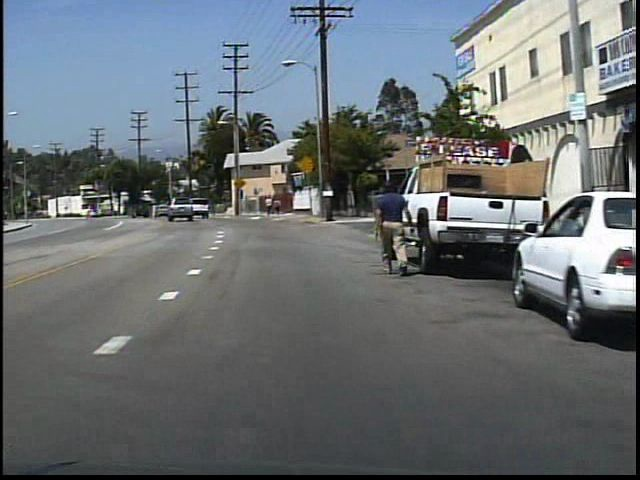person: (368, 175, 414, 279), (265, 194, 274, 218), (273, 197, 283, 216)
